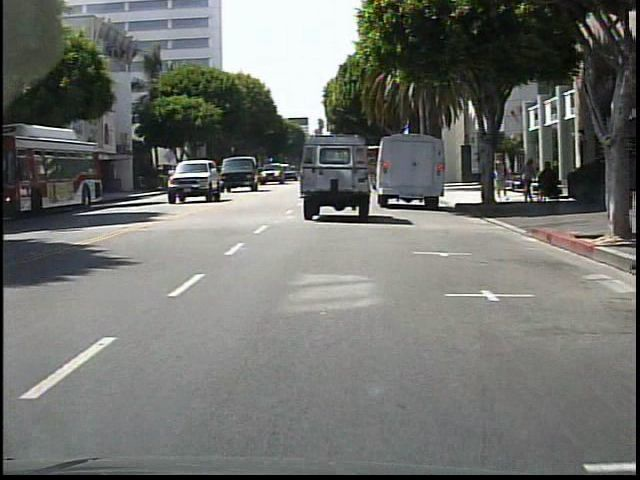person: (492, 154, 508, 204), (519, 159, 535, 202)
